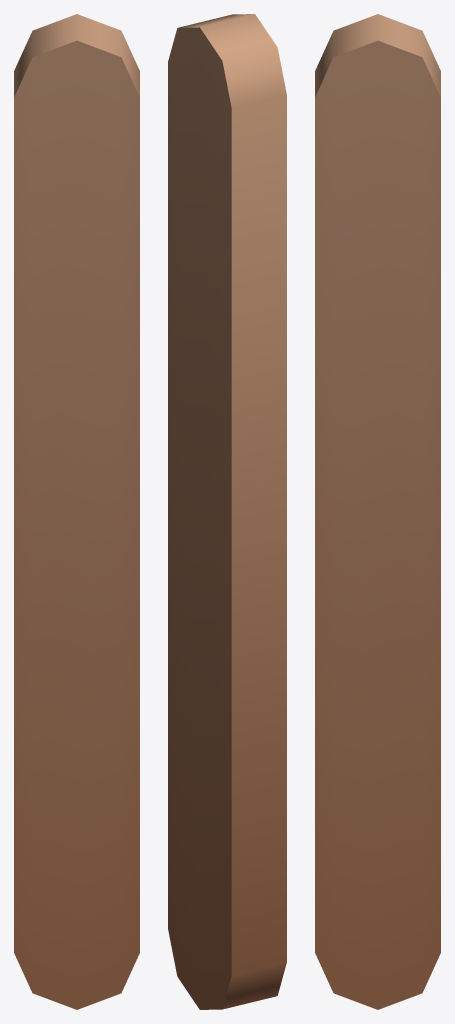
File: popsicle-stick.glb
3 views of the same model, side by side, from view 1: azimuth 90°, elevation 25°; view 2: azimuth 210°, elevation 25°; view 3: azimuth 270°, elevation 25° (orthographic).
Parts seen in each view (by area): view 1: popsicle-stick; view 2: popsicle-stick; view 3: popsicle-stick.
Part boxes in pixels (<box>): popsicle-stick: <box>14,14,139,1009</box>; popsicle-stick: <box>168,14,286,1009</box>; popsicle-stick: <box>315,14,440,1009</box>.
Bounding box in the file's own units: 0.02 × 0.34 × 0.04.
